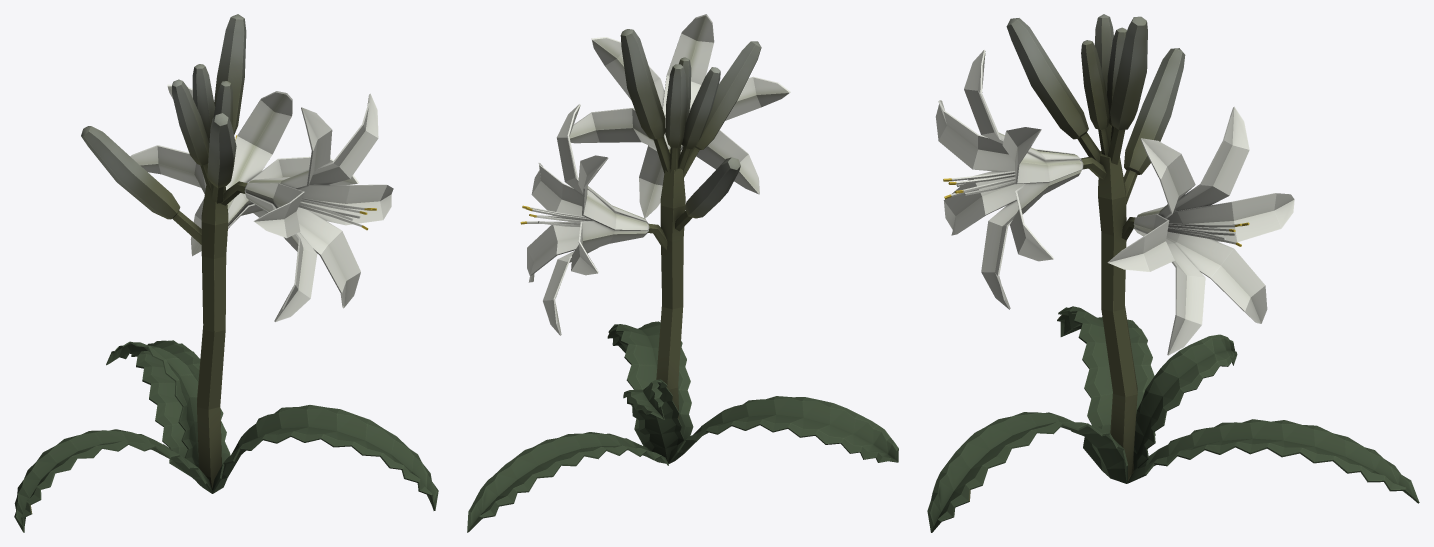
File: Desert lily.glb
3 views of the same model, side by side, from view 1: azimuth 30°, elevation 25°; view 2: azimuth 150°, elevation 25°; view 3: azimuth 270°, elevation 25° (orthographic). The views are drawn at different scales.
Visible parts, largest first — view 1: DeserLily_Mesh; view 2: DeserLily_Mesh; view 3: DeserLily_Mesh.
Boxes of the visible parts, box(x1,y1,x2,y2) form: DeserLily_Mesh: box(14, 14, 438, 532); DeserLily_Mesh: box(467, 14, 898, 532); DeserLily_Mesh: box(927, 14, 1419, 532).
Bounding box in the file's own units: 4.29 × 5.12 × 4.8.
1 material, 1 textured.
